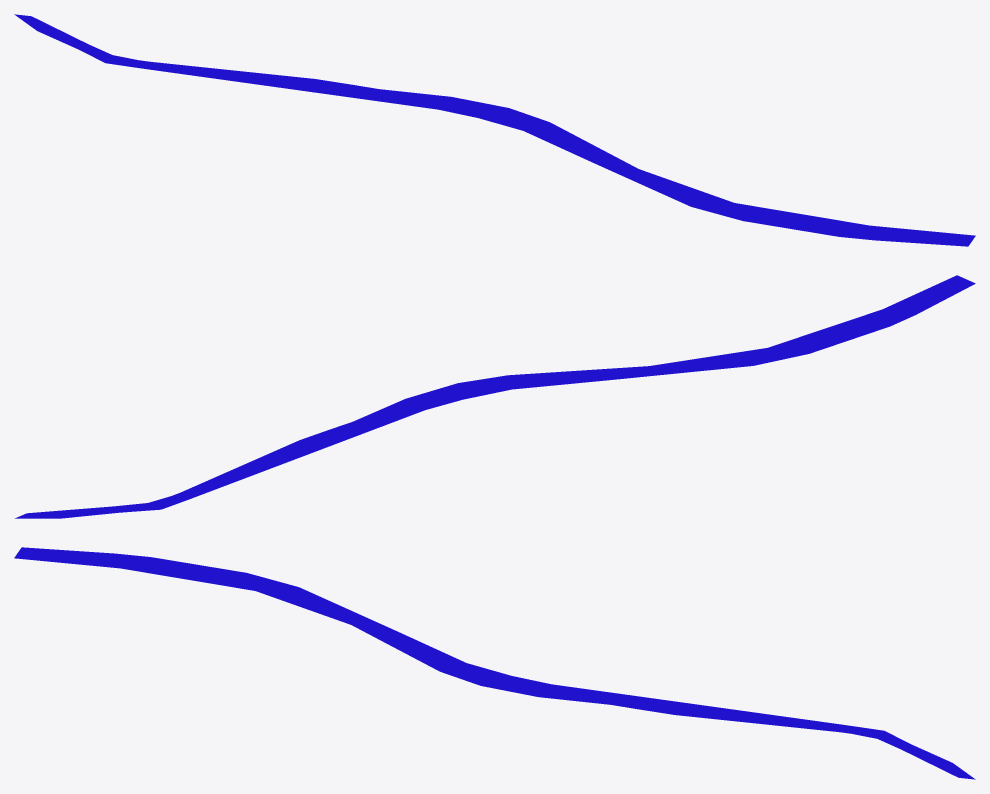
The model's file is EscenarioDSJ-river.fbx.
The picture shows the model from 3 angles, top to bottom: view 1: azimuth 90°, elevation 25°; view 2: azimuth 150°, elevation 25°; view 3: azimuth 270°, elevation 25°; orthographic projection.
Parts seen in each view (by area): view 1: map_6.osm_water; view 2: map_6.osm_water; view 3: map_6.osm_water.
Boxes of the visible parts, <box> form: map_6.osm_water: <box>14,14,975,246</box>; map_6.osm_water: <box>15,275,975,518</box>; map_6.osm_water: <box>14,547,975,779</box>.
Bounding box in the file's own units: 2716 × 0.000208 × 4752.
